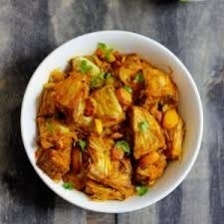sabzi: (37, 43, 185, 202)
